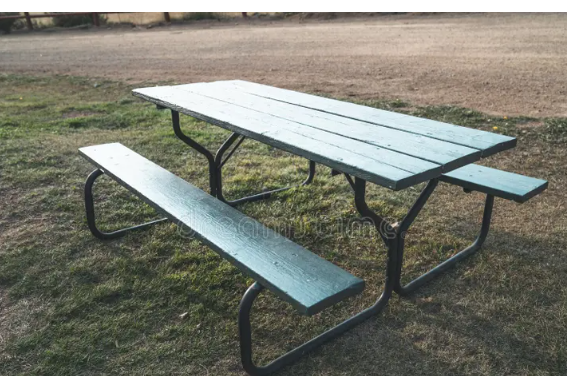obstacle: (80, 68, 549, 372)
